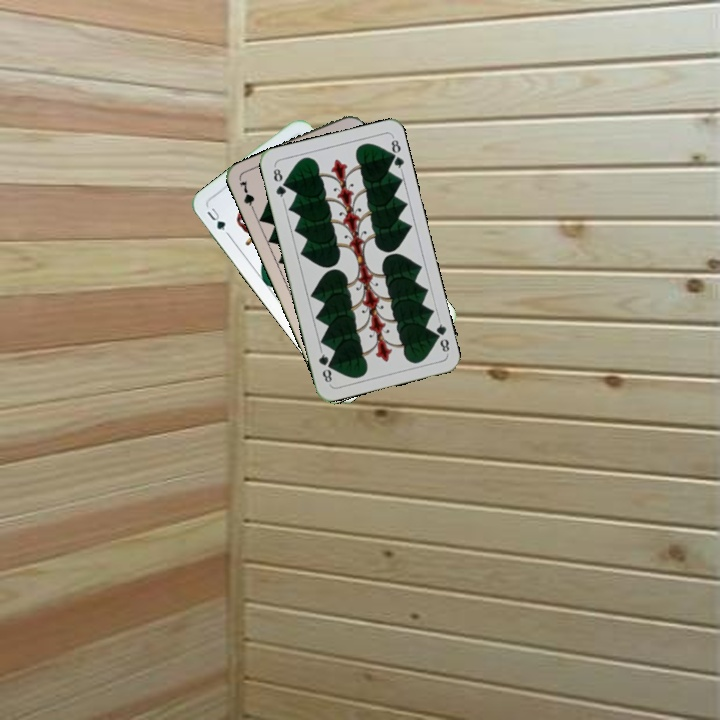G7: (236, 176, 258, 216)
G8: (429, 316, 452, 355), (269, 162, 289, 202)
GU: (203, 203, 228, 233)
